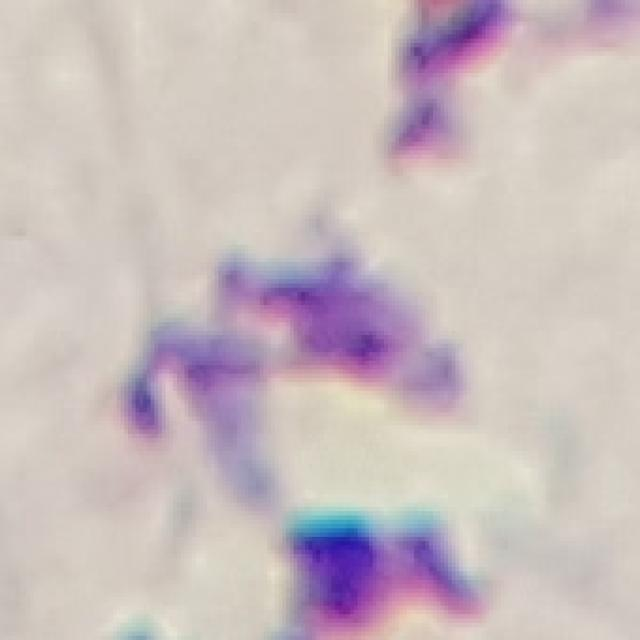non-sperm: (117, 254, 469, 470)
